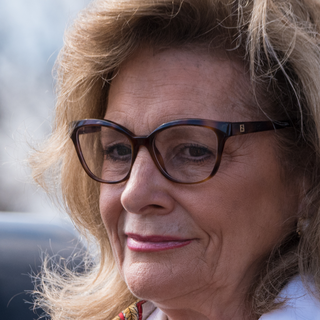eye: (169, 142, 221, 168), (99, 141, 139, 165)
